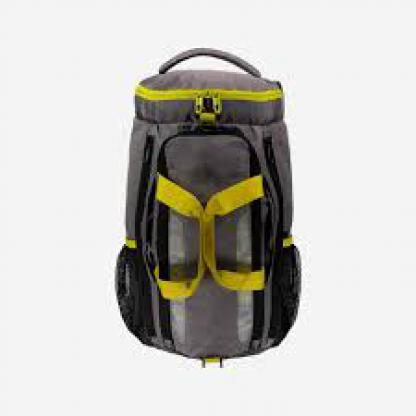morral: (98, 44, 312, 376)
